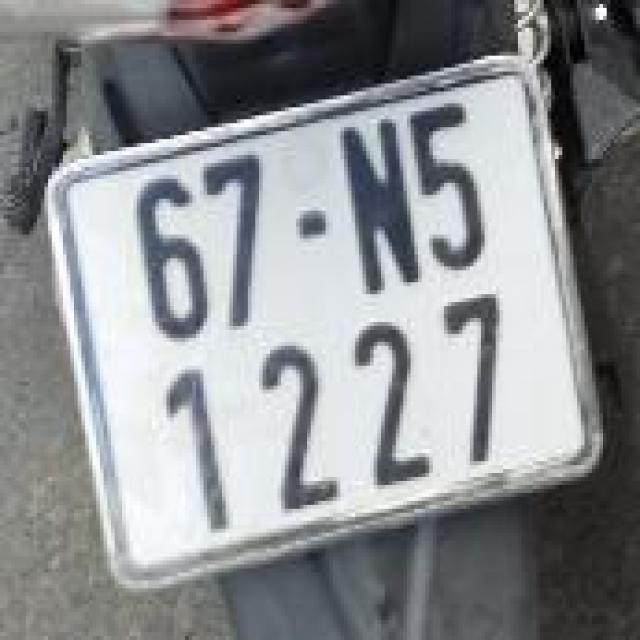1: (163, 354, 237, 540)
2: (342, 306, 442, 505), (244, 338, 348, 529)
5: (411, 78, 506, 280)
6: (126, 167, 214, 346)
7: (436, 280, 522, 487), (204, 129, 278, 332)
N: (329, 107, 433, 302)
